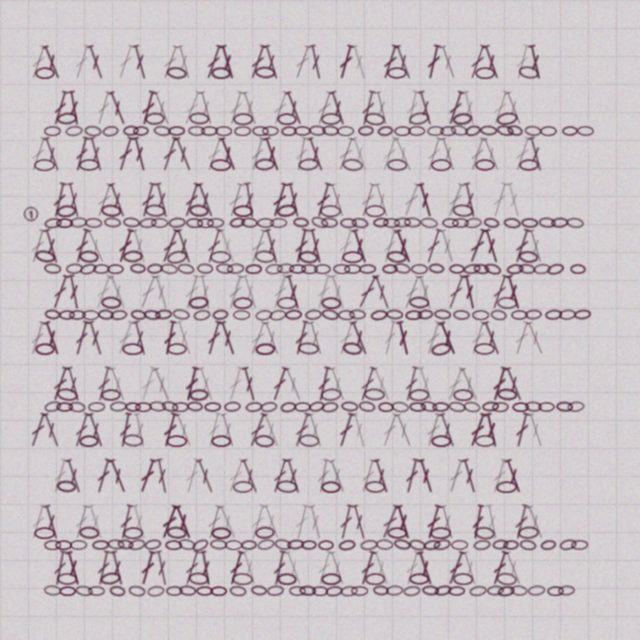chain: (166, 249, 188, 265), (430, 341, 452, 357), (408, 111, 430, 126), (496, 111, 518, 126), (34, 249, 56, 264), (56, 387, 78, 402), (518, 65, 539, 80), (276, 203, 297, 218), (342, 341, 363, 356), (100, 571, 121, 586), (191, 537, 210, 553), (166, 66, 187, 80), (364, 112, 385, 126), (452, 112, 473, 126), (342, 158, 363, 172), (56, 204, 77, 218), (298, 250, 319, 264), (386, 250, 407, 264), (518, 250, 539, 264), (254, 434, 275, 448), (474, 526, 495, 540), (496, 572, 517, 586), (452, 204, 474, 217), (276, 480, 298, 493), (310, 215, 329, 230), (298, 158, 319, 171), (188, 296, 209, 309), (298, 342, 319, 355), (364, 388, 385, 401), (56, 480, 77, 493), (166, 526, 187, 539), (518, 526, 539, 539), (188, 572, 209, 585), (79, 262, 98, 276), (483, 262, 502, 276), (546, 262, 565, 276), (408, 538, 427, 552), (255, 66, 275, 79), (57, 112, 77, 125), (145, 112, 165, 125), (189, 112, 209, 125), (255, 158, 275, 171), (101, 204, 121, 217), (145, 204, 165, 217), (189, 204, 209, 217), (79, 250, 99, 263), (123, 250, 143, 263), (255, 250, 275, 263), (101, 296, 121, 309), (409, 296, 429, 309), (321, 388, 341, 401), (497, 388, 517, 401), (123, 434, 143, 447), (299, 434, 319, 447), (79, 526, 99, 539), (255, 526, 275, 539), (34, 159, 55, 171), (210, 159, 231, 171), (320, 205, 341, 217), (210, 251, 231, 263), (342, 251, 363, 263), (122, 343, 143, 355), (474, 343, 495, 355), (166, 435, 187, 447), (496, 481, 517, 493), (34, 527, 55, 539), (430, 527, 451, 539), (232, 573, 253, 585), (35, 67, 55, 79), (211, 67, 231, 79), (387, 67, 407, 79), (475, 67, 495, 79), (233, 113, 253, 125), (277, 113, 297, 125), (321, 113, 341, 125), (79, 159, 99, 171), (387, 159, 407, 171), (431, 159, 451, 171), (475, 159, 495, 171), (519, 159, 539, 171), (233, 205, 253, 217), (365, 205, 385, 217), (233, 297, 253, 309), (277, 297, 297, 309), (321, 297, 341, 309), (497, 297, 517, 309), (35, 343, 55, 355), (167, 343, 187, 355), (255, 343, 275, 355), (101, 389, 121, 401), (189, 389, 209, 401), (409, 389, 429, 401), (453, 389, 473, 401), (79, 435, 99, 447), (211, 435, 231, 447), (431, 435, 451, 447), (475, 435, 495, 447), (233, 481, 253, 493), (321, 481, 341, 493), (365, 481, 385, 493), (123, 527, 143, 539), (211, 527, 231, 539), (387, 527, 407, 539), (57, 573, 77, 585), (277, 573, 297, 585), (321, 573, 341, 585), (365, 573, 385, 585), (409, 573, 429, 585), (453, 573, 473, 585), (450, 124, 468, 137), (464, 124, 482, 137), (496, 124, 514, 137), (506, 124, 524, 137), (393, 262, 411, 275), (172, 308, 190, 321), (321, 308, 339, 321), (44, 400, 62, 413), (161, 400, 179, 413), (308, 400, 326, 413), (358, 400, 376, 413), (420, 400, 438, 413), (128, 538, 146, 551), (144, 538, 162, 551), (178, 538, 196, 551), (257, 538, 275, 551), (274, 538, 292, 551), (393, 538, 411, 551), (433, 538, 451, 551), (559, 538, 577, 551), (434, 584, 452, 597), (229, 216, 246, 229), (65, 125, 83, 137), (84, 125, 102, 137), (153, 125, 171, 137), (524, 125, 542, 137), (44, 217, 62, 229), (139, 217, 157, 229), (351, 217, 369, 229), (420, 217, 438, 229), (464, 217, 482, 229), (503, 217, 521, 229), (566, 217, 584, 229), (160, 263, 178, 275), (177, 263, 195, 275), (265, 263, 283, 275), (463, 263, 481, 275), (506, 263, 524, 275), (518, 263, 536, 275), (533, 263, 551, 275), (110, 309, 128, 321), (143, 309, 161, 321), (193, 309, 211, 321), (255, 309, 273, 321), (269, 309, 287, 321), (370, 309, 388, 321), (68, 401, 86, 413), (245, 401, 263, 413), (260, 401, 278, 413), (321, 401, 339, 413), (391, 401, 409, 413), (448, 401, 466, 413), (463, 401, 481, 413), (338, 539, 356, 551), (360, 539, 378, 551), (423, 539, 441, 551), (473, 539, 491, 551), (519, 539, 537, 551), (75, 585, 93, 597), (128, 585, 146, 597), (147, 585, 165, 597), (229, 585, 247, 597), (325, 585, 343, 597), (340, 585, 358, 597), (403, 585, 421, 597), (469, 585, 487, 597), (497, 585, 515, 597), (102, 125, 119, 137), (377, 125, 394, 137), (483, 217, 500, 229), (473, 263, 490, 275), (130, 309, 147, 321), (490, 309, 507, 321), (280, 401, 297, 413), (540, 539, 557, 551), (109, 585, 126, 597), (168, 217, 186, 228), (538, 217, 556, 228), (567, 401, 585, 412), (107, 539, 125, 550), (266, 585, 284, 596), (510, 585, 528, 596), (309, 125, 326, 136), (322, 125, 339, 136), (480, 125, 497, 136), (70, 217, 87, 228), (104, 217, 121, 228), (123, 217, 140, 228), (241, 217, 258, 228), (321, 217, 338, 228), (394, 217, 411, 228), (404, 217, 421, 228), (551, 217, 568, 228), (44, 263, 61, 274), (66, 263, 83, 274), (216, 263, 233, 274), (227, 263, 244, 274), (277, 263, 294, 274), (428, 263, 445, 274), (44, 309, 61, 320), (155, 309, 172, 320), (212, 309, 229, 320), (285, 309, 302, 320), (305, 309, 322, 320), (349, 309, 366, 320), (386, 309, 403, 320), (417, 309, 434, 320), (434, 309, 451, 320), (525, 309, 542, 320), (545, 309, 562, 320), (559, 309, 576, 320), (574, 309, 591, 320), (110, 401, 127, 412), (149, 401, 166, 412), (224, 401, 241, 412), (341, 401, 358, 412), (482, 401, 499, 412), (525, 401, 542, 412), (556, 401, 573, 412), (117, 539, 134, 550), (210, 539, 227, 550), (287, 539, 304, 550), (376, 539, 393, 550), (492, 539, 509, 550), (44, 585, 61, 596), (179, 585, 196, 596), (299, 585, 316, 596), (386, 585, 403, 596), (422, 585, 439, 596), (487, 585, 504, 596), (528, 585, 545, 596), (558, 585, 575, 596), (123, 125, 139, 136), (358, 125, 374, 136), (293, 217, 309, 228), (373, 217, 389, 228), (130, 263, 146, 274), (147, 263, 163, 274), (197, 263, 213, 274), (98, 309, 114, 320), (187, 401, 203, 412), (251, 585, 267, 596), (373, 585, 389, 596), (44, 126, 61, 136), (168, 126, 185, 136), (188, 126, 205, 136), (201, 126, 218, 136), (215, 126, 232, 136), (234, 126, 251, 136), (252, 126, 269, 136), (262, 126, 279, 136), (294, 126, 311, 136), (337, 126, 354, 136), (394, 126, 411, 136), (408, 126, 425, 136), (427, 126, 444, 136), (540, 126, 557, 136), (577, 126, 594, 136), (56, 218, 73, 228), (85, 218, 102, 228), (151, 218, 168, 228), (186, 218, 203, 228), (197, 218, 214, 228), (207, 218, 224, 228), (257, 218, 274, 228), (270, 218, 287, 228), (340, 218, 357, 228), (383, 218, 400, 228), (442, 218, 459, 228), (452, 218, 469, 228), (521, 218, 538, 228), (93, 264, 110, 274), (107, 264, 124, 274), (245, 264, 262, 274), (289, 264, 306, 274), (301, 264, 318, 274), (314, 264, 331, 274), (333, 264, 350, 274), (344, 264, 361, 274), (359, 264, 376, 274), (411, 264, 428, 274), (69, 310, 86, 320), (82, 310, 99, 320), (233, 310, 250, 320), (338, 310, 355, 320), (405, 310, 422, 320), (453, 310, 470, 320), (472, 310, 489, 320), (511, 310, 528, 320), (56, 402, 73, 412), (88, 402, 105, 412), (135, 402, 152, 412), (172, 402, 189, 412), (204, 402, 221, 412), (294, 402, 311, 412), (409, 402, 426, 412), (432, 402, 449, 412), (492, 402, 509, 412), (512, 402, 529, 412), (538, 402, 555, 412), (44, 540, 61, 550), (55, 540, 72, 550), (70, 540, 87, 550), (92, 540, 109, 550), (165, 540, 182, 550), (225, 540, 242, 550), (451, 540, 468, 550), (571, 540, 588, 550), (59, 586, 76, 596), (88, 586, 105, 596), (166, 586, 183, 596), (196, 586, 213, 596), (210, 586, 227, 596), (289, 586, 306, 596), (351, 586, 368, 596), (448, 586, 465, 596), (547, 586, 564, 596), (133, 126, 149, 136), (281, 126, 297, 136), (440, 126, 456, 136), (562, 126, 578, 136), (382, 264, 398, 274), (449, 264, 465, 274), (570, 264, 586, 274), (59, 310, 75, 320), (125, 402, 141, 412), (378, 402, 394, 412), (241, 540, 257, 550), (301, 540, 317, 550), (318, 540, 334, 550), (503, 540, 519, 550), (312, 586, 328, 596)
double: (355, 274, 380, 310), (457, 366, 482, 402), (40, 44, 64, 80), (84, 228, 108, 264), (106, 274, 130, 310), (436, 320, 460, 356), (480, 320, 504, 356), (150, 366, 174, 402), (370, 366, 394, 402), (502, 366, 526, 402), (106, 458, 130, 494), (216, 504, 240, 540), (378, 504, 402, 540), (392, 44, 415, 80), (480, 44, 503, 80), (106, 90, 129, 126), (502, 90, 525, 126), (172, 136, 195, 172), (334, 136, 357, 172), (392, 136, 415, 172), (480, 136, 503, 172), (106, 182, 129, 218), (194, 182, 217, 218), (400, 182, 423, 218), (444, 182, 467, 218), (216, 228, 239, 264), (392, 228, 415, 264), (466, 228, 489, 264), (92, 274, 115, 310), (114, 320, 137, 356), (348, 320, 371, 356), (524, 320, 547, 356), (282, 366, 305, 402), (444, 366, 467, 402), (40, 412, 63, 448), (246, 412, 269, 448), (260, 412, 283, 448), (466, 412, 489, 448), (136, 458, 159, 494), (194, 458, 217, 494), (326, 458, 349, 494), (502, 458, 525, 494), (158, 504, 181, 540), (172, 504, 195, 540), (260, 504, 283, 540), (524, 504, 547, 540), (370, 550, 393, 586), (502, 550, 525, 586), (27, 44, 49, 80), (85, 44, 107, 80), (159, 44, 181, 80), (291, 44, 313, 80), (379, 44, 401, 80), (437, 44, 459, 80), (151, 90, 173, 126), (181, 90, 203, 126), (239, 90, 261, 126), (269, 90, 291, 126), (283, 90, 305, 126), (313, 90, 335, 126), (327, 90, 349, 126), (489, 90, 511, 126), (27, 136, 49, 172), (41, 136, 63, 172), (203, 136, 225, 172), (217, 136, 239, 172), (261, 136, 283, 172), (305, 136, 327, 172), (349, 136, 371, 172), (437, 136, 459, 172), (511, 136, 533, 172), (93, 182, 115, 218), (159, 228, 181, 264), (173, 228, 195, 264), (247, 228, 269, 264), (349, 228, 371, 264), (511, 228, 533, 264), (49, 274, 71, 310), (137, 274, 159, 310), (239, 274, 261, 310), (269, 274, 291, 310), (327, 274, 349, 310), (371, 274, 393, 310), (401, 274, 423, 310), (445, 274, 467, 310), (41, 320, 63, 356), (173, 320, 195, 356), (217, 320, 239, 356), (247, 320, 269, 356), (261, 320, 283, 356), (335, 320, 357, 356), (49, 366, 71, 402), (107, 366, 129, 402), (137, 366, 159, 402), (195, 366, 217, 402), (327, 366, 349, 402), (27, 412, 49, 448), (85, 412, 107, 448), (173, 412, 195, 448), (291, 412, 313, 448), (335, 412, 357, 448), (379, 412, 401, 448), (393, 412, 415, 448), (63, 458, 85, 494), (225, 458, 247, 494), (239, 458, 261, 494), (445, 458, 467, 494), (85, 504, 107, 540), (283, 550, 305, 586), (445, 550, 467, 586), (71, 44, 92, 80), (115, 44, 136, 80), (203, 44, 224, 80), (217, 44, 238, 80), (247, 44, 268, 80), (261, 44, 282, 80), (349, 44, 370, 80), (467, 44, 488, 80), (415, 90, 436, 126), (445, 90, 466, 126), (115, 136, 136, 172), (159, 136, 180, 172), (247, 136, 268, 172), (379, 136, 400, 172), (467, 136, 488, 172), (181, 182, 202, 218), (225, 182, 246, 218), (269, 182, 290, 218), (313, 182, 334, 218), (327, 182, 348, 218), (357, 182, 378, 218), (415, 182, 436, 218), (489, 182, 510, 218), (27, 228, 48, 264), (41, 228, 62, 264), (115, 228, 136, 264), (129, 228, 150, 264), (335, 228, 356, 264), (423, 228, 444, 264), (437, 228, 458, 264), (481, 228, 502, 264), (151, 274, 172, 310), (181, 274, 202, 310), (225, 274, 246, 310), (283, 274, 304, 310), (313, 274, 334, 310), (415, 274, 436, 310), (489, 274, 510, 310), (503, 274, 524, 310), (27, 320, 48, 356), (85, 320, 106, 356), (305, 320, 326, 356), (423, 320, 444, 356), (511, 320, 532, 356), (225, 366, 246, 402), (269, 366, 290, 402), (357, 366, 378, 402), (489, 366, 510, 402), (71, 412, 92, 448), (305, 412, 326, 448), (423, 412, 444, 448), (437, 412, 458, 448), (93, 458, 114, 494), (283, 458, 304, 494), (371, 458, 392, 494), (459, 458, 480, 494), (489, 458, 510, 494), (41, 504, 62, 540), (129, 504, 150, 540), (247, 504, 268, 540), (393, 504, 414, 540), (423, 504, 444, 540), (63, 550, 84, 586), (137, 550, 158, 586), (239, 550, 260, 586), (327, 550, 348, 586), (357, 550, 378, 586), (415, 550, 436, 586), (489, 550, 510, 586), (130, 44, 150, 80), (174, 44, 194, 80), (336, 44, 356, 80), (512, 44, 532, 80), (50, 90, 70, 126), (138, 90, 158, 126), (196, 90, 216, 126), (226, 90, 246, 126), (358, 90, 378, 126), (86, 136, 106, 172), (424, 136, 444, 172), (526, 136, 546, 172), (138, 182, 158, 218), (152, 182, 172, 218), (372, 182, 392, 218), (504, 182, 524, 218), (72, 228, 92, 264), (204, 228, 224, 264), (262, 228, 282, 264), (380, 228, 400, 264), (526, 228, 546, 264), (130, 320, 150, 356), (204, 320, 224, 356), (468, 320, 488, 356), (94, 366, 114, 402), (416, 366, 436, 402), (160, 412, 180, 448), (218, 412, 238, 448), (512, 412, 532, 448), (526, 412, 546, 448), (50, 458, 70, 494), (182, 458, 202, 494), (270, 458, 290, 494), (358, 458, 378, 494), (402, 458, 422, 494), (416, 458, 436, 494), (28, 504, 48, 540), (204, 504, 224, 540), (182, 550, 202, 586), (226, 550, 246, 586), (314, 550, 334, 586), (402, 550, 422, 586), (460, 550, 480, 586), (424, 44, 443, 80), (526, 44, 545, 80), (94, 90, 113, 126), (372, 90, 391, 126), (460, 90, 479, 126), (72, 136, 91, 172), (130, 136, 149, 172), (50, 182, 69, 218), (292, 228, 311, 264), (72, 320, 91, 356), (292, 320, 311, 356), (394, 320, 413, 356), (64, 366, 83, 402), (182, 366, 201, 402), (240, 366, 259, 402), (402, 366, 421, 402), (350, 412, 369, 448), (482, 412, 501, 448), (72, 504, 91, 540), (292, 504, 311, 540), (306, 504, 325, 540), (350, 504, 369, 540), (438, 504, 457, 540), (512, 504, 531, 540), (94, 550, 113, 586), (108, 550, 127, 586), (270, 550, 289, 586), (307, 44, 325, 80), (403, 90, 421, 126), (65, 182, 83, 218), (285, 182, 303, 218), (461, 182, 479, 218), (307, 228, 325, 264), (65, 274, 83, 310), (161, 320, 179, 356), (381, 320, 399, 356), (315, 366, 333, 402), (131, 412, 149, 448), (205, 412, 223, 448), (153, 458, 171, 494), (117, 504, 135, 540), (337, 504, 355, 540), (483, 504, 501, 540), (51, 550, 69, 586), (153, 550, 171, 586), (293, 136, 310, 172), (241, 182, 258, 218), (197, 274, 214, 310), (461, 274, 478, 310), (117, 412, 134, 448), (315, 458, 332, 494), (66, 90, 82, 126), (470, 504, 486, 540), (198, 550, 214, 586)
noise: (21, 204, 41, 224)
